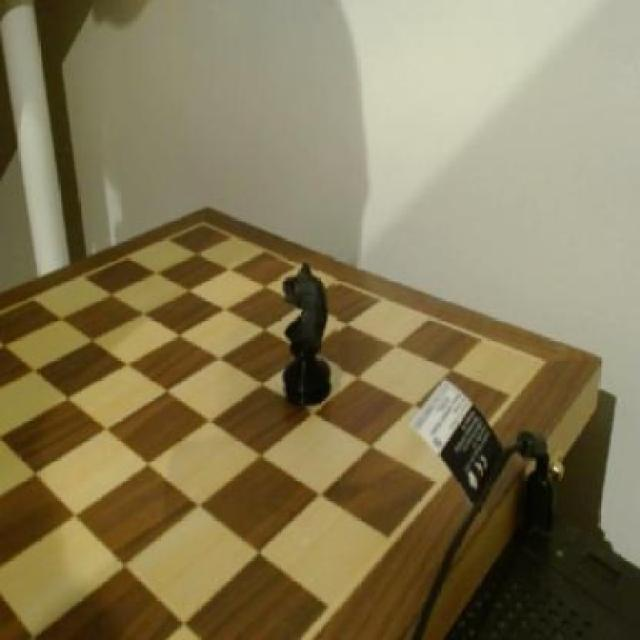black-king: (282, 256, 340, 412)
